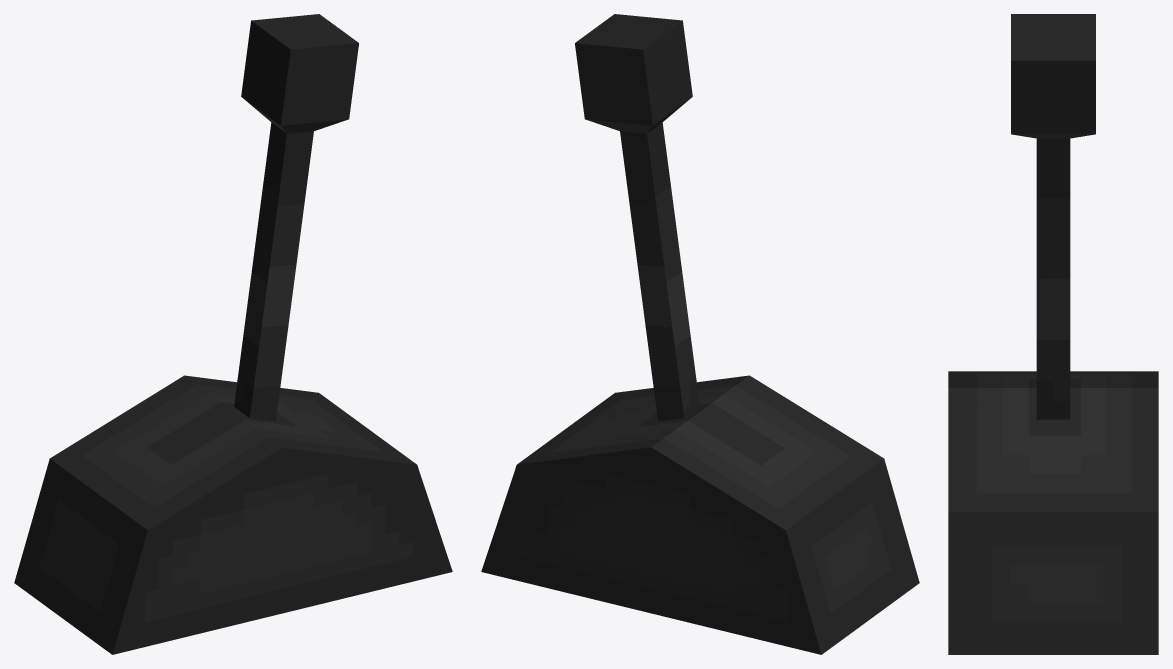
Rendered from lever0002.obj.
3 renders of one model, left to right at view 1: azimuth 30°, elevation 25°; view 2: azimuth 150°, elevation 25°; view 3: azimuth 270°, elevation 25°, orthographic. The views are drawn at different scales.
Parts seen in each view (by area): view 1: Cube.018, Cube.019; view 2: Cube.018, Cube.019; view 3: Cube.018, Cube.019.
Part boxes in pixels (bbox=[...]): Cube.018: bbox=[14, 375, 452, 654]; Cube.019: bbox=[234, 14, 358, 421]; Cube.018: bbox=[481, 375, 919, 654]; Cube.019: bbox=[575, 14, 699, 421]; Cube.018: bbox=[948, 371, 1158, 654]; Cube.019: bbox=[1011, 14, 1095, 419].
Size of the model in its own units: 32 by 48.48 by 16.
